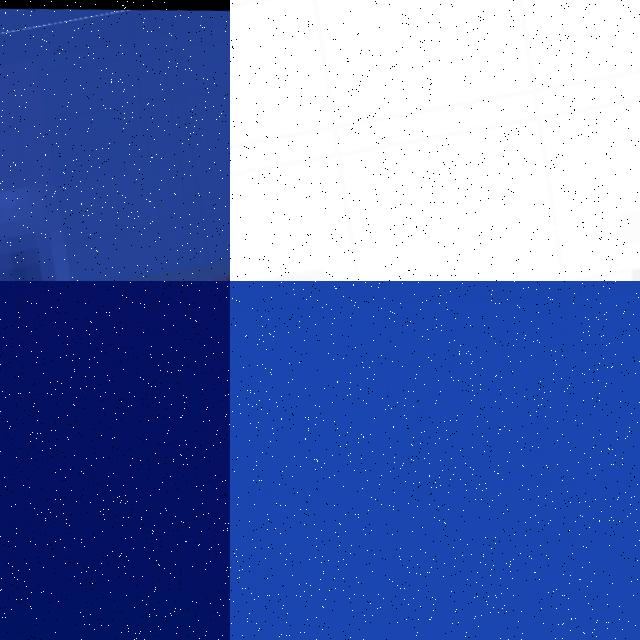drone: (230, 0, 640, 281), (0, 0, 230, 281)
